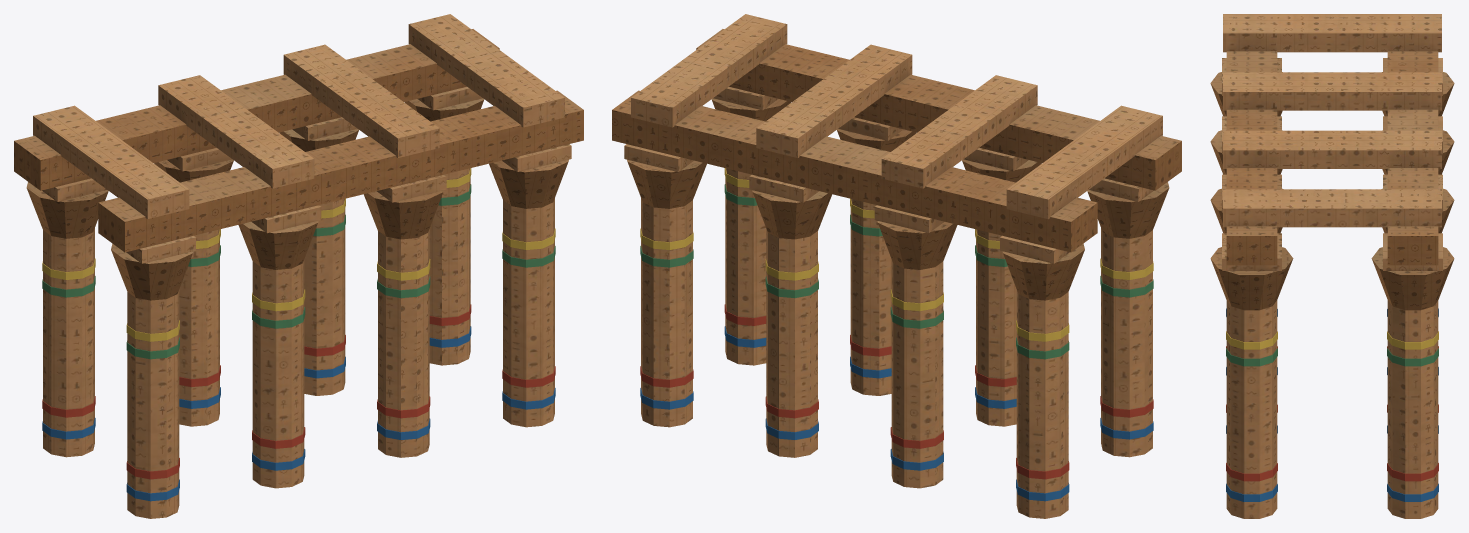
Rendered from kolonnad_tex.glb.
The picture shows the model from 3 angles, left to right: view 1: azimuth 30°, elevation 25°; view 2: azimuth 150°, elevation 25°; view 3: azimuth 270°, elevation 25°; orthographic projection. The views are drawn at different scales.
Parts seen in each view (by area): view 1: kolonnad; view 2: kolonnad; view 3: kolonnad.
Boxes of the visible parts, x1,y1,x2,y2 form: kolonnad: (14, 14, 583, 518); kolonnad: (612, 14, 1181, 518); kolonnad: (1210, 14, 1454, 518).
Bounding box in the file's own units: 22 × 14.85 × 10.6.
Materials: 6 (6 with a texture image).
